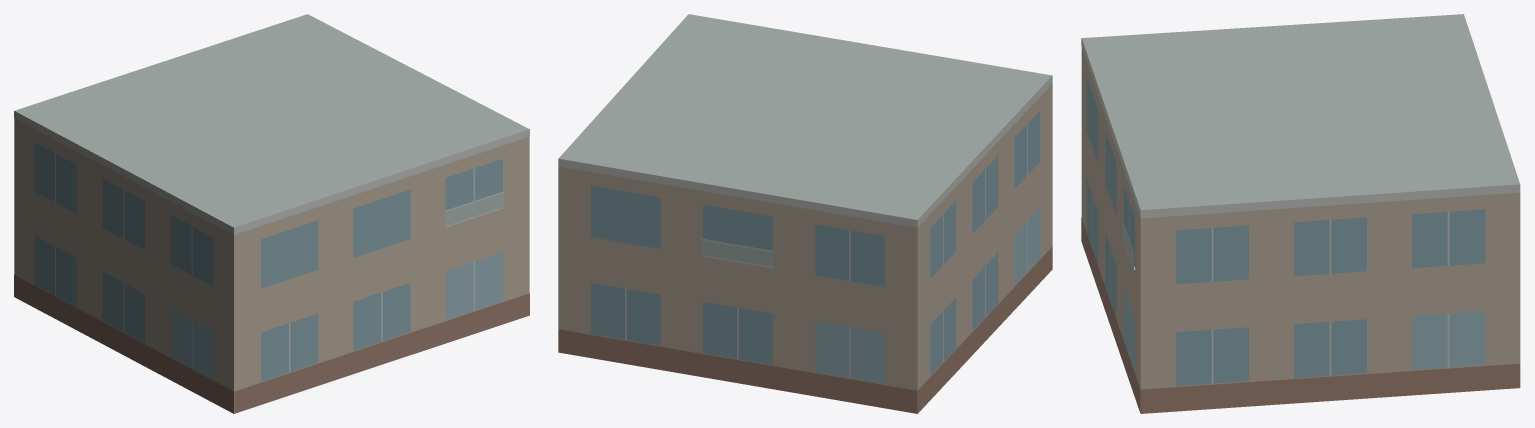
The model's file is survey-upis-32703464.glb.
3 views of the same model, side by side, from view 1: azimuth 30°, elevation 25°; view 2: azimuth 150°, elevation 25°; view 3: azimuth 270°, elevation 25° (orthographic). The views are drawn at different scales.
Parts seen in each view (by area): view 1: survey-upis-32703464.tmp; view 2: survey-upis-32703464.tmp; view 3: survey-upis-32703464.tmp.
Part boxes in pixels (x1,y1,x2,y2): survey-upis-32703464.tmp: (14, 14, 529, 413); survey-upis-32703464.tmp: (558, 14, 1052, 413); survey-upis-32703464.tmp: (1081, 14, 1520, 413).
Size of the model in its own units: 12.62 by 6.1 by 11.92.
